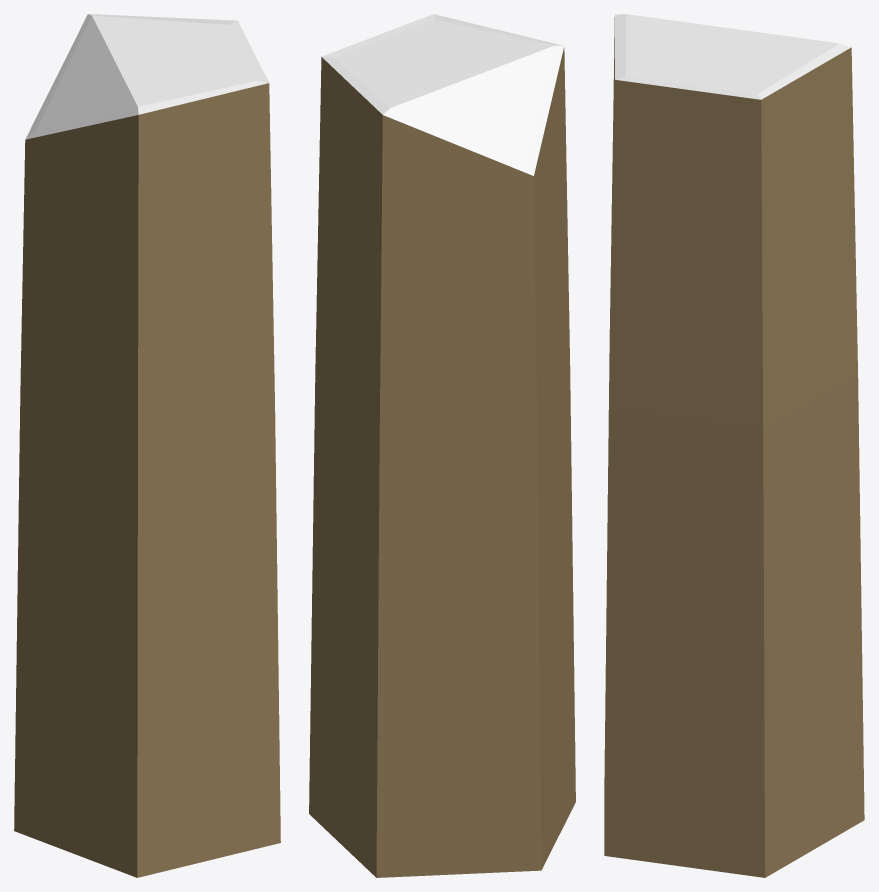
Rendered from Thuja_Stump_Snow_01.fbx.
The picture shows the model from 3 angles, left to right: view 1: azimuth 30°, elevation 25°; view 2: azimuth 150°, elevation 25°; view 3: azimuth 270°, elevation 25°; orthographic projection. The views are drawn at different scales.
Parts seen in each view (by area): view 1: Thuja_Stump_Snow_01; view 2: Thuja_Stump_Snow_01; view 3: Thuja_Stump_Snow_01.
Part boxes in pixels (left/top/right/bottom): Thuja_Stump_Snow_01: left=14, top=14, right=280, bottom=877; Thuja_Stump_Snow_01: left=309, top=14, right=575, bottom=877; Thuja_Stump_Snow_01: left=604, top=14, right=864, bottom=877.
Bounding box in the file's own units: 21.17 × 66.28 × 20.14.
